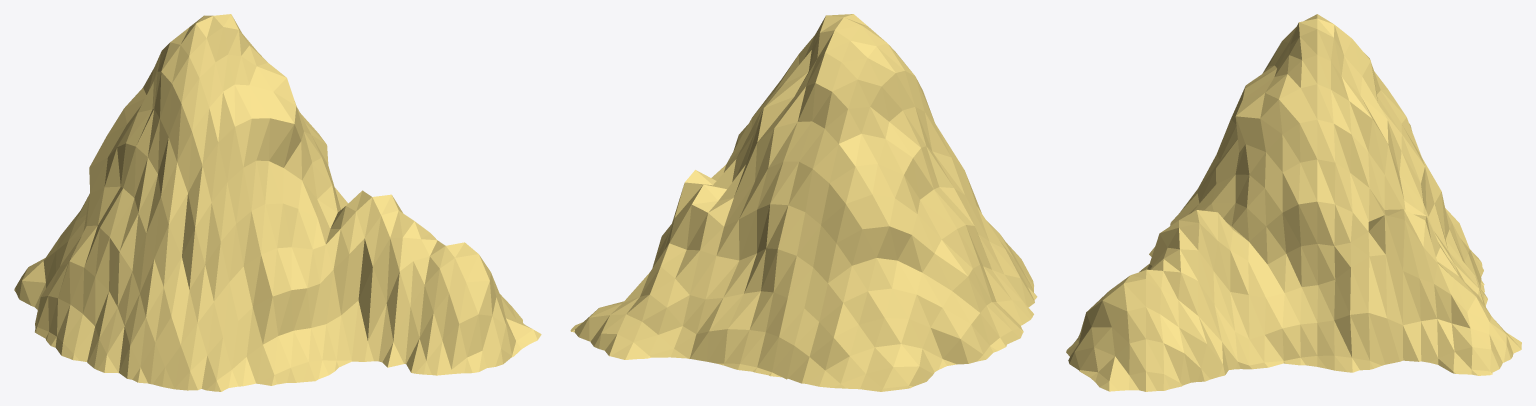
File: Mountain_Sand_01.fbx
3 views of the same model, side by side, from view 1: azimuth 30°, elevation 25°; view 2: azimuth 150°, elevation 25°; view 3: azimuth 270°, elevation 25° (orthographic). The views are drawn at different scales.
Parts seen in each view (by area): view 1: Mountain_Sand_01; view 2: Mountain_Sand_01; view 3: Mountain_Sand_01.
Boxes of the visible parts, <box> form: Mountain_Sand_01: <box>14,14,541,391</box>; Mountain_Sand_01: <box>570,14,1037,391</box>; Mountain_Sand_01: <box>1066,14,1521,391</box>.
Bounding box in the file's own units: 893 × 649 × 979.
